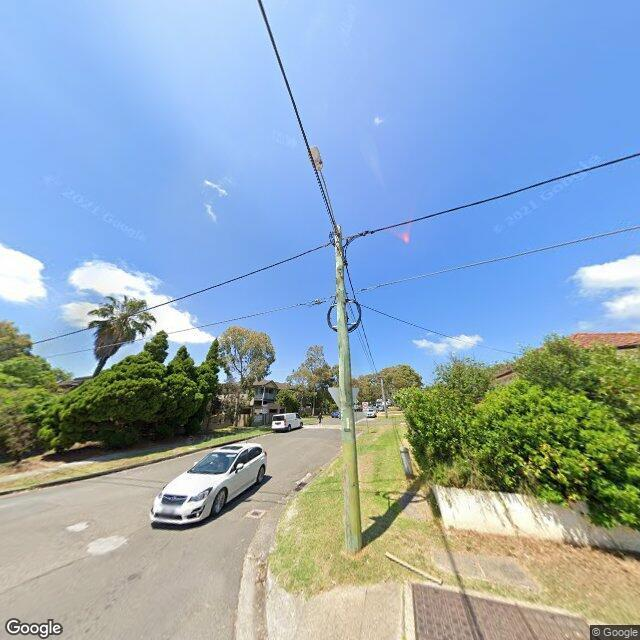steel-pole: (380, 378, 388, 418)
streetlight: (309, 146, 340, 237)
timber-pole: (333, 225, 362, 554)
